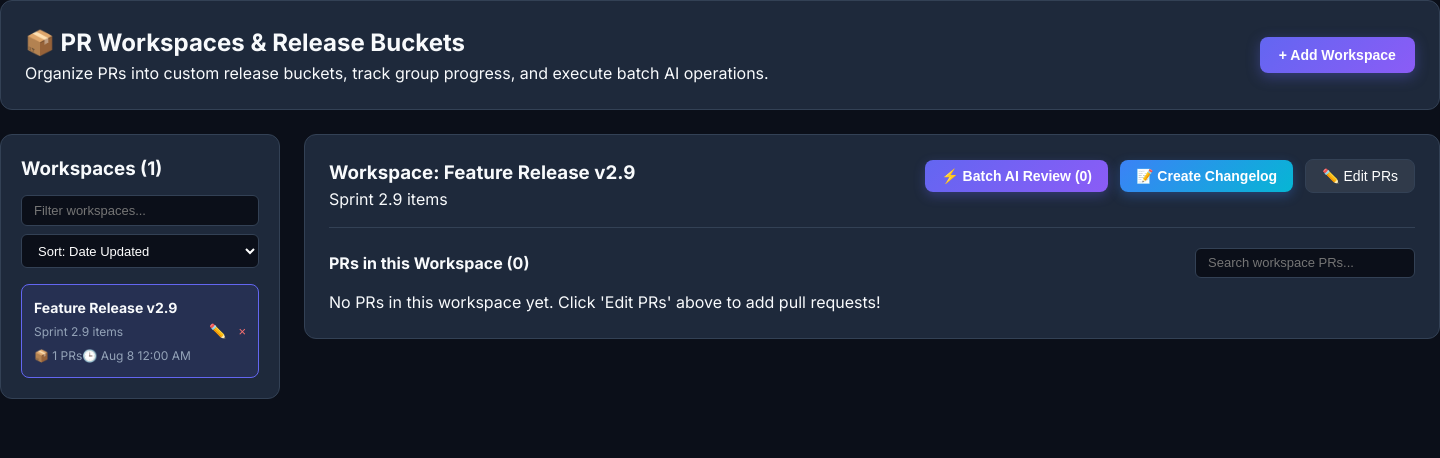
StagingWorkspacesTab Component › filters workspaces in the directory search input
The image size is (1440, 458).
Type "Nonexistent" into the field with placeholder "Filter workspaces..." at {"x": 140, "y": 211}, box [21,195,259,226]
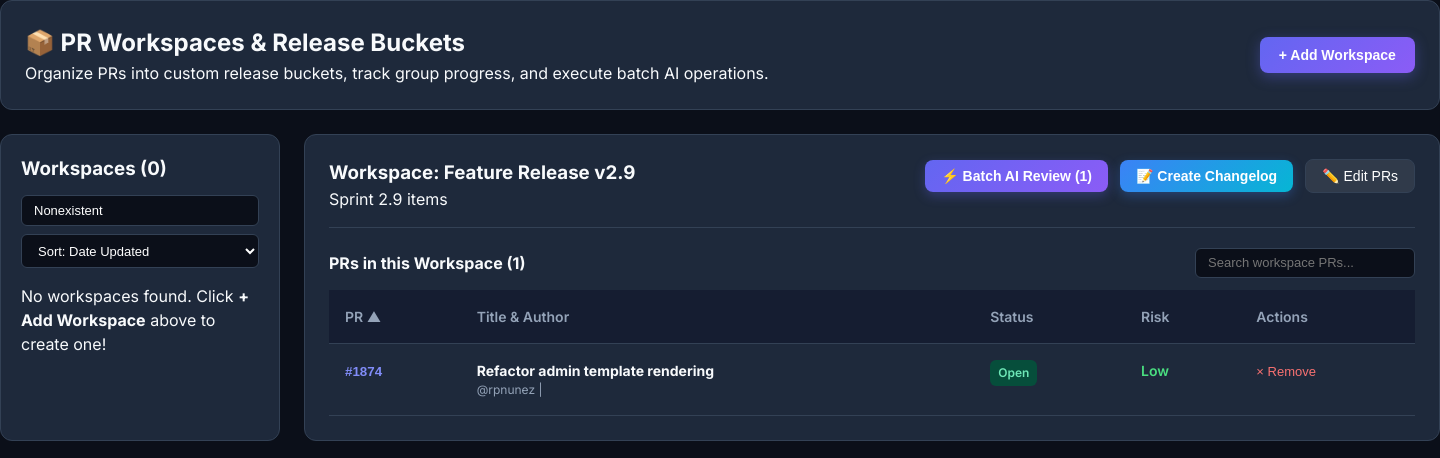
Result: the text "No workspaces found" is shown at [21,286,238,306]
